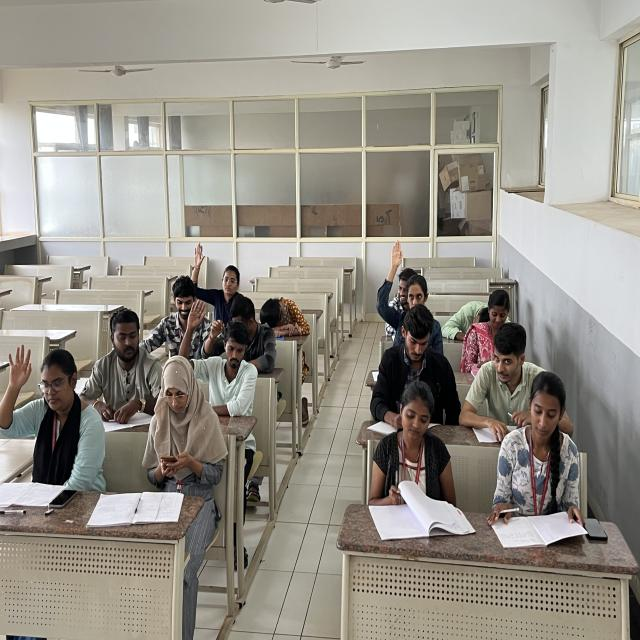Hand Rising: (3, 321, 114, 535), (173, 302, 285, 456), (360, 221, 464, 385), (179, 235, 271, 360)
Reading: (359, 372, 477, 560), (467, 313, 570, 487), (493, 379, 590, 557), (82, 298, 175, 456), (259, 273, 331, 394)
Using Phone: (133, 353, 254, 584)
